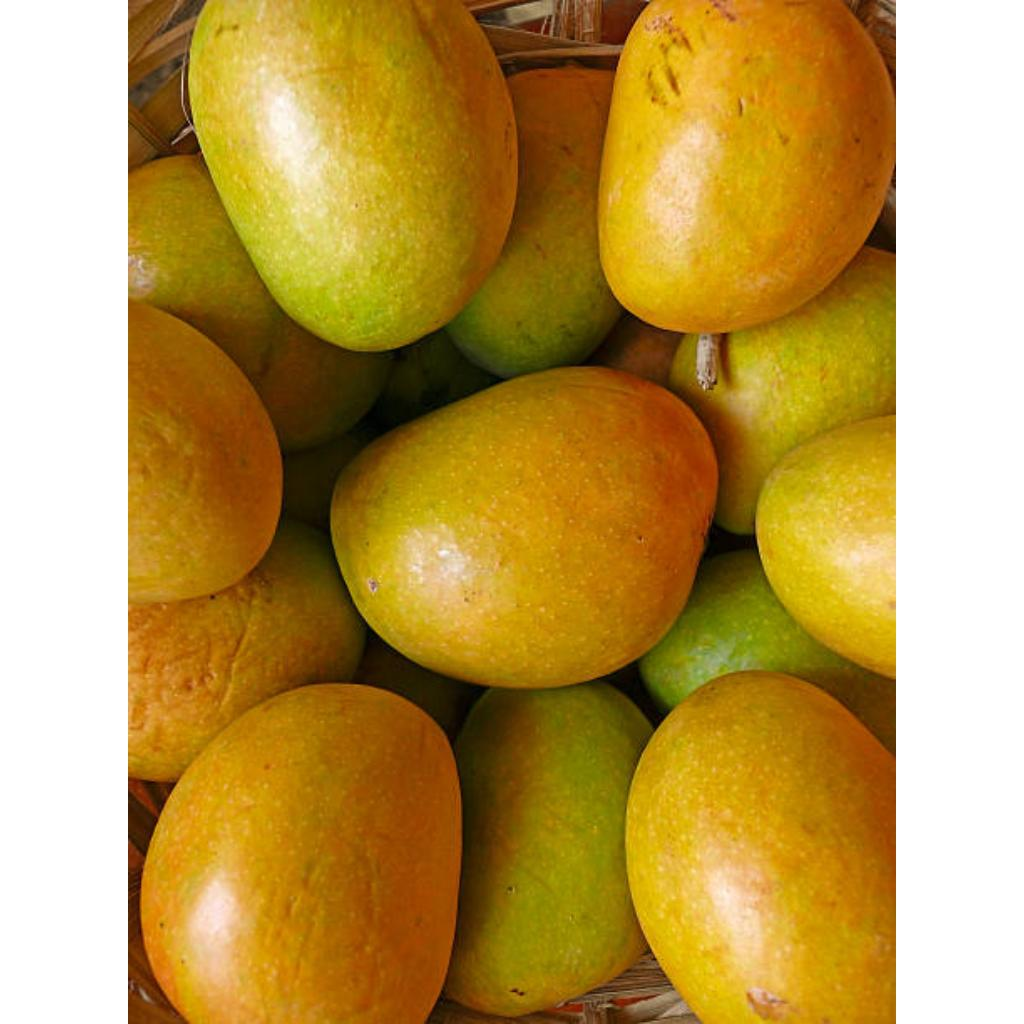mango: (332, 368, 716, 688), (190, 0, 518, 351), (142, 684, 462, 1024), (598, 0, 894, 333), (628, 672, 894, 1024), (444, 682, 652, 1015), (668, 248, 894, 533), (128, 522, 366, 781), (448, 70, 622, 377), (128, 302, 282, 602), (756, 416, 896, 677)
